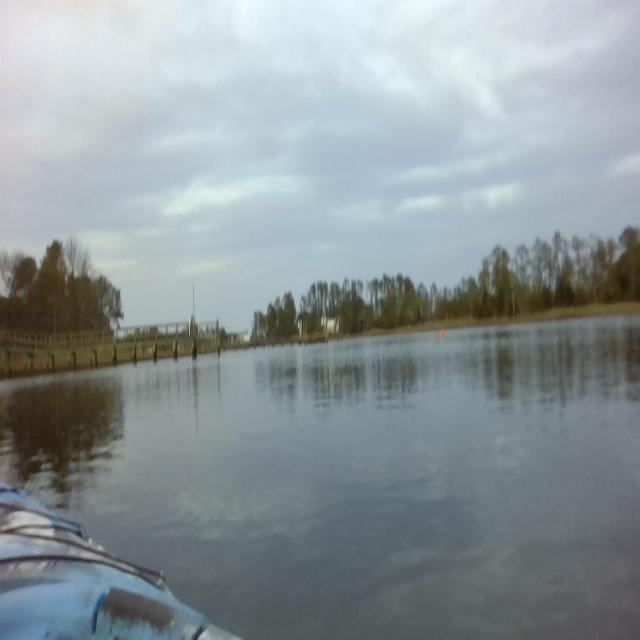Buoy: (439, 328, 445, 340)
